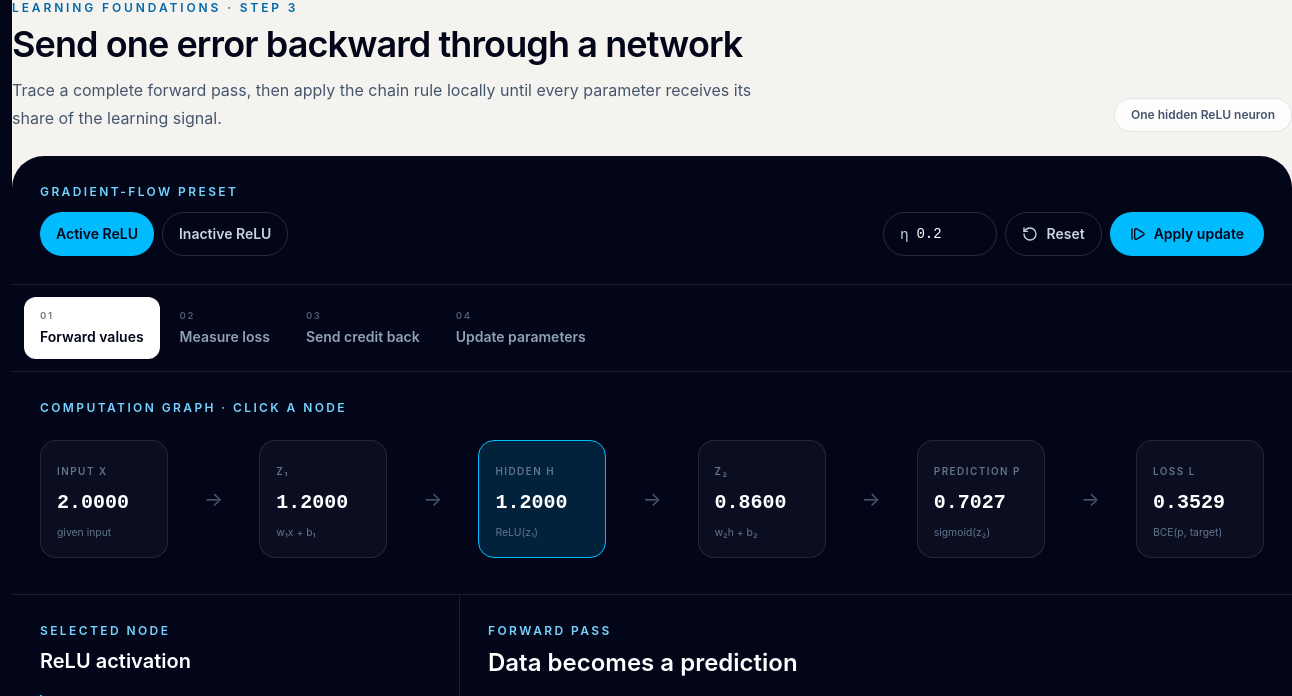
Test: BackpropagationLabPage › moves through forward, loss, and backward stages with matching gradients
Click the button with test id "backprop-stage-loss". click: (225, 328)
box: [164,297,286,359]
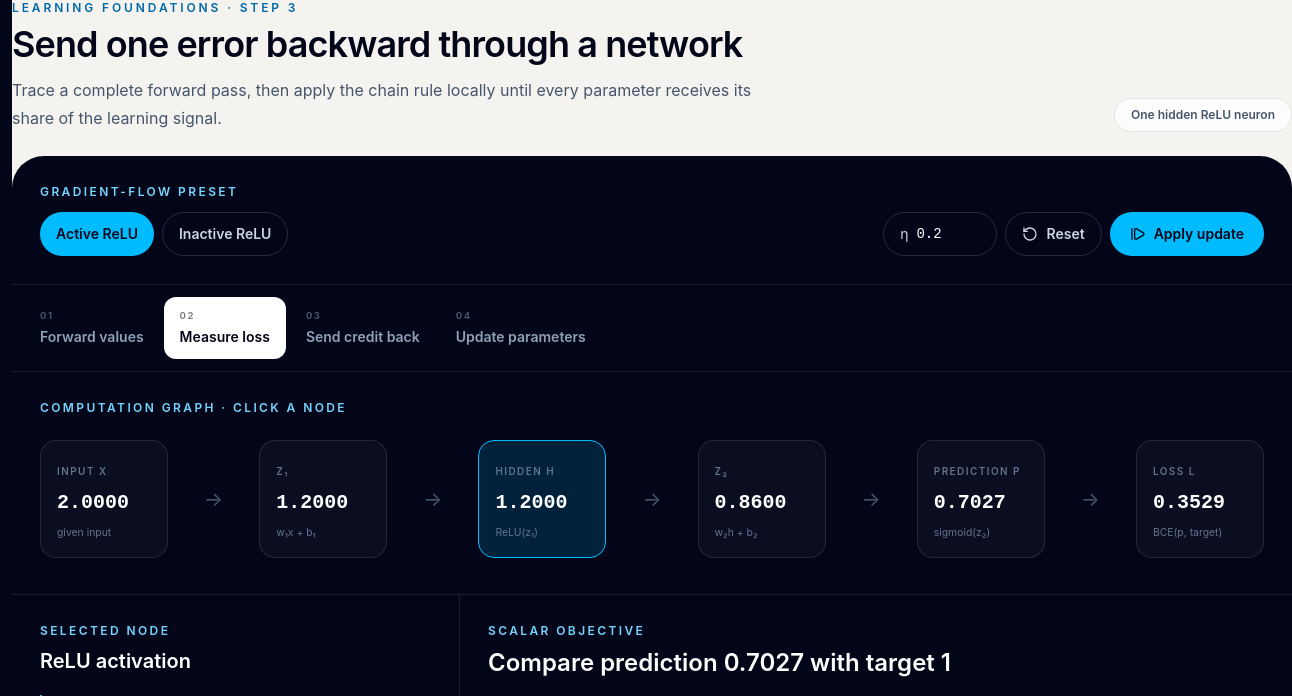
Click the button with test id "backprop-stage-backward". click: (363, 328)
box: [290,297,436,359]
(page scrolled)
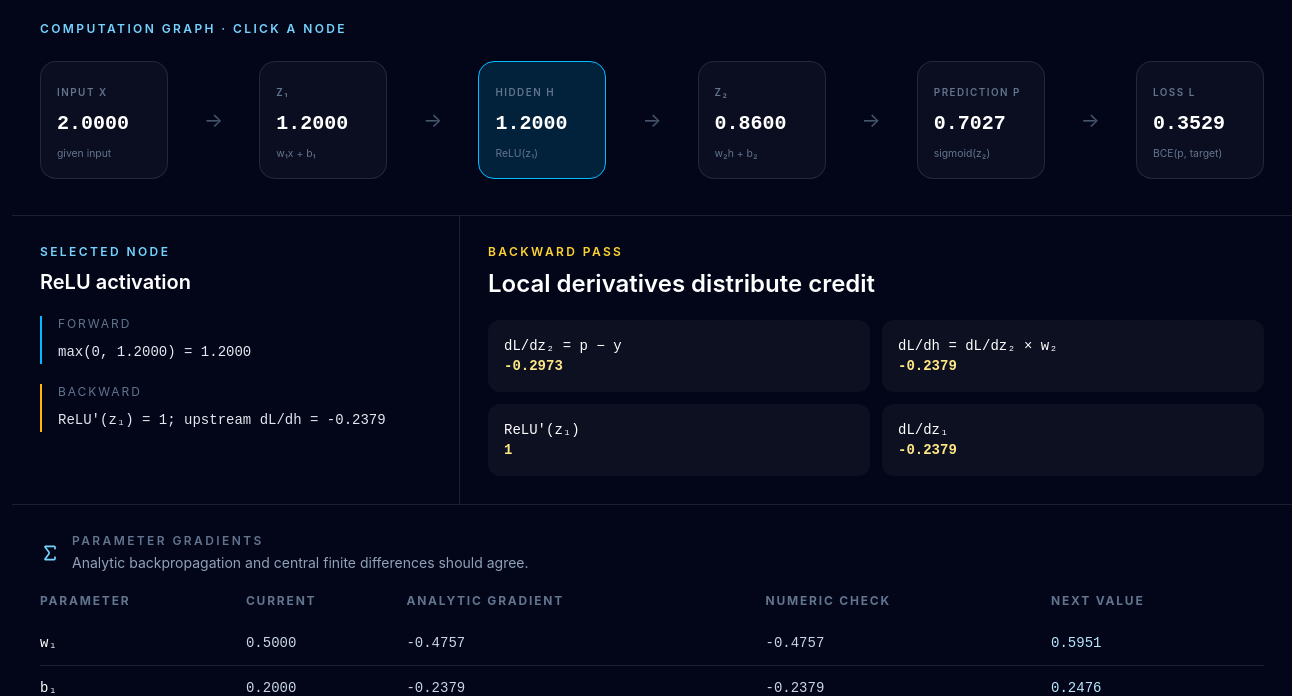
Expected: the element with test id "backprop-backward-panel" shows "Local derivatives distribute credit", [488,269,875,298]
